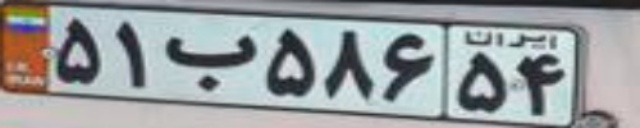1: (114, 20, 149, 87)
4: (513, 53, 565, 115)
5: (264, 27, 314, 98), (453, 53, 507, 113), (56, 18, 103, 84)
6: (377, 32, 434, 102)
8: (321, 28, 374, 101)
be: (162, 34, 258, 92)
